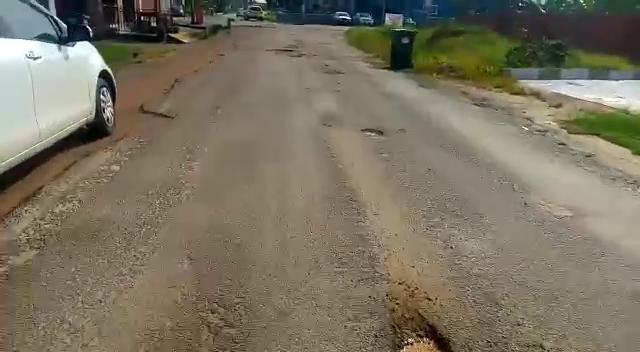pothole: (383, 317, 467, 351), (360, 126, 395, 139)
